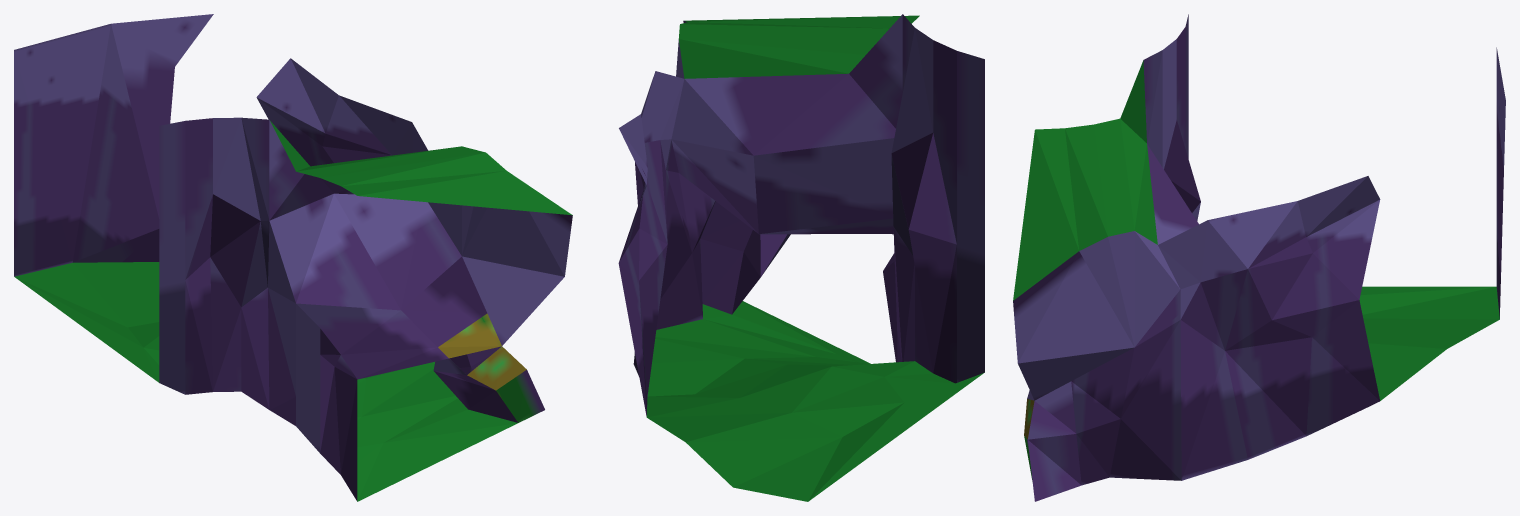
File: Mapa Verde 3.fbx
The picture shows the model from 3 angles, left to right: view 1: azimuth 30°, elevation 25°; view 2: azimuth 150°, elevation 25°; view 3: azimuth 270°, elevation 25°; orthographic projection. The views are drawn at different scales.
Parts seen in each view (by area): view 1: Mapa3; view 2: Mapa3; view 3: Mapa3.
Boxes of the visible parts, bbox=[...] form: Mapa3: bbox=[14, 14, 572, 501]; Mapa3: bbox=[618, 14, 984, 501]; Mapa3: bbox=[1013, 14, 1505, 501].
Size of the model in its own units: 21098 by 25710 by 21573.
2 materials, 1 textured.
